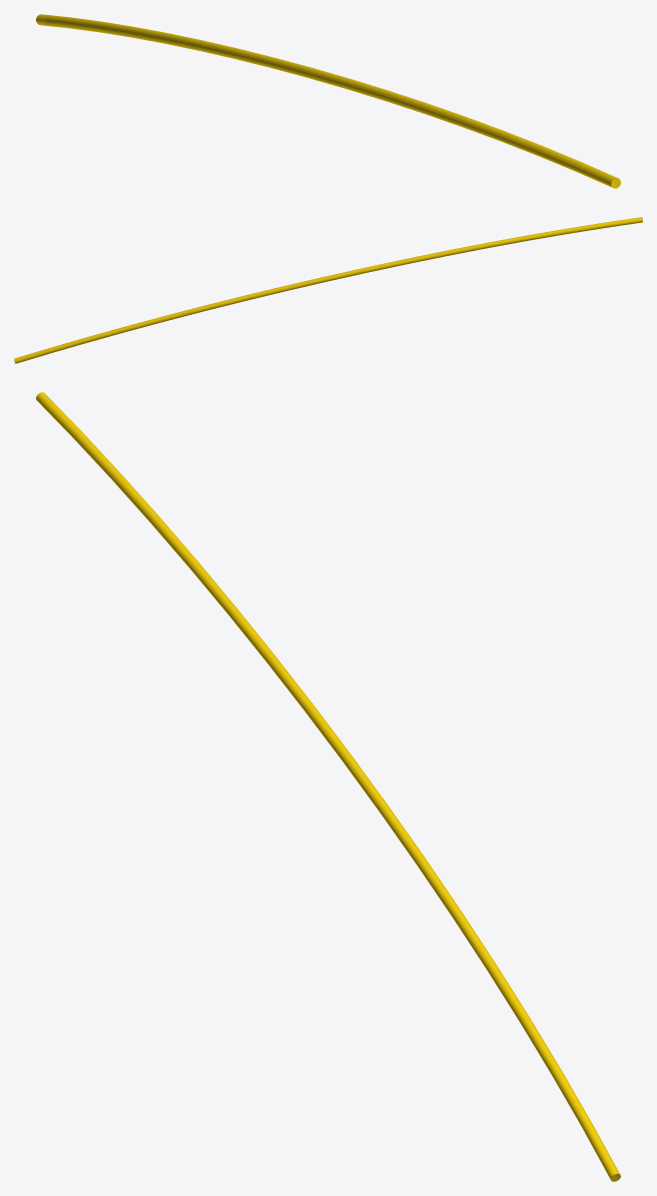
Rendered from Event_421115418_track_182.fbx.
3 renders of one model, top to bottom at view 1: azimuth 90°, elevation 25°; view 2: azimuth 150°, elevation 25°; view 3: azimuth 270°, elevation 25°, orthographic. The views are drawn at different scales.
Visible parts, largest first — view 1: Model; view 2: Model; view 3: Model.
Boxes of the visible parts, left/top/right/bottom form: Model: left=36, top=14, right=620, bottom=188; Model: left=14, top=217, right=642, bottom=363; Model: left=36, top=392, right=620, bottom=1181.
Size of the model in its own units: 4.07 by 1.27 by 2.12.
